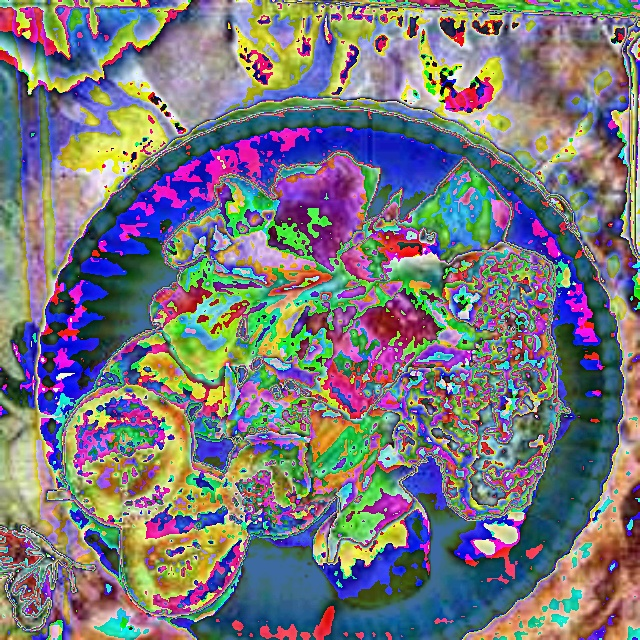background: (60, 150, 574, 622)
